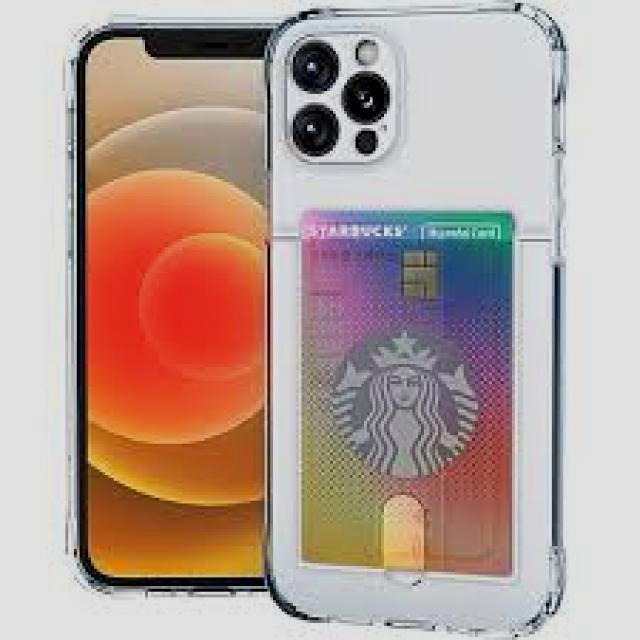lens: (283, 30, 405, 164)
phone: (268, 8, 576, 631), (55, 13, 280, 601)
